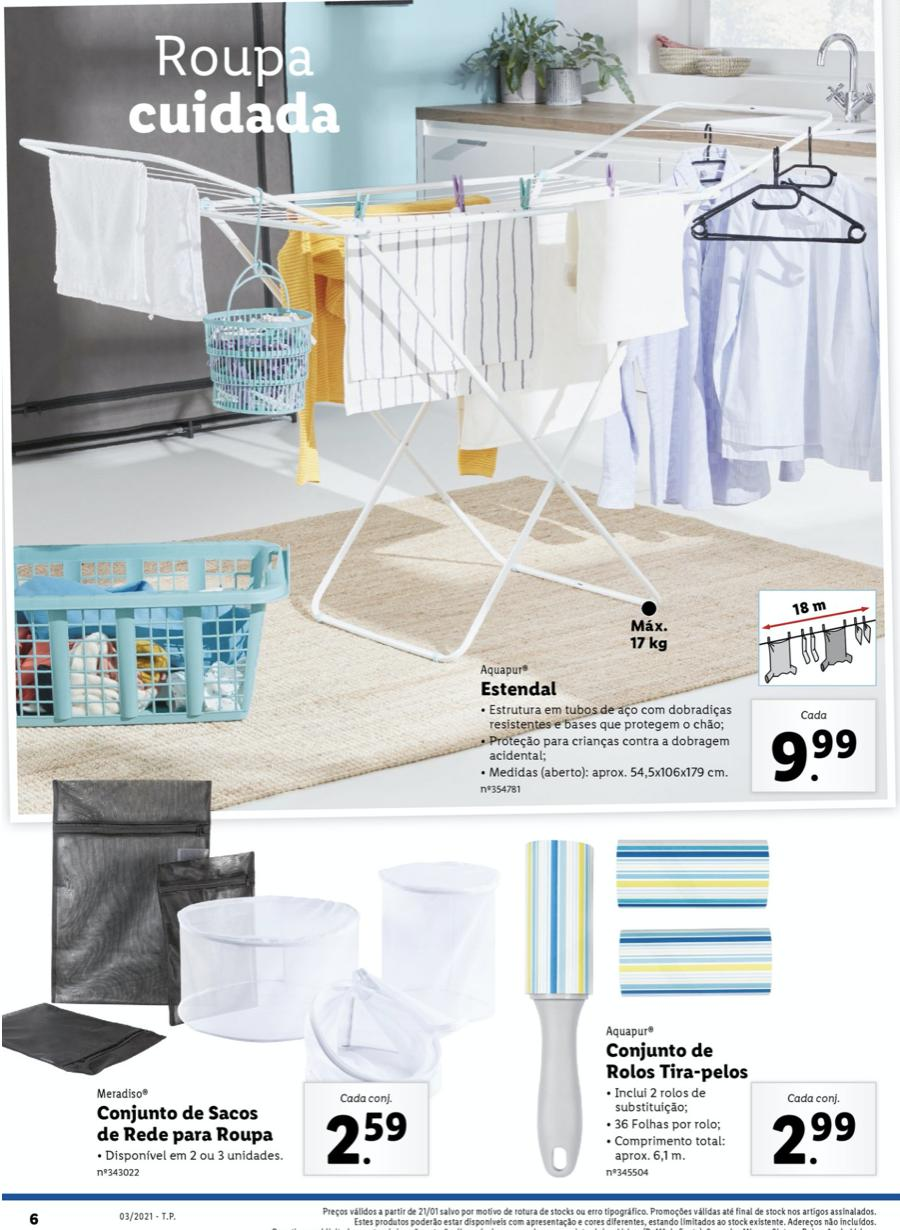name: (89, 1100, 278, 1149), (601, 1039, 754, 1088), (474, 676, 563, 708)
price: (769, 1108, 862, 1177), (324, 1108, 410, 1173), (768, 726, 862, 785)
product: (15, 20, 884, 800), (28, 814, 516, 1185), (516, 820, 886, 1185)
